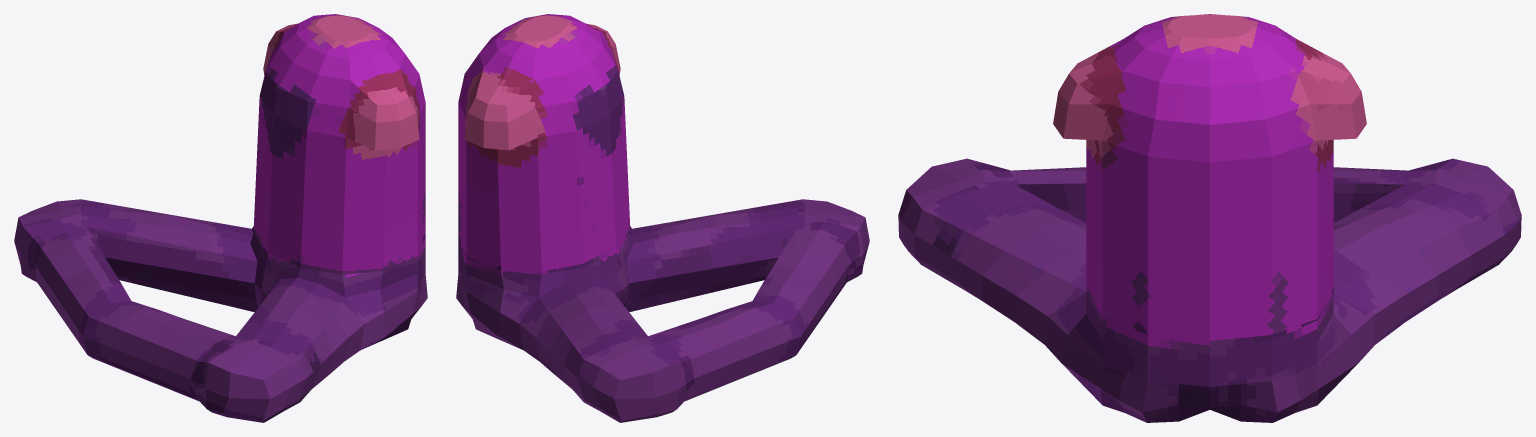
File: bertbody.glb
3 views of the same model, side by side, from view 1: azimuth 30°, elevation 25°; view 2: azimuth 150°, elevation 25°; view 3: azimuth 270°, elevation 25° (orthographic). The views are drawn at different scales.
Parts seen in each view (by area): view 1: Cylinder; view 2: Cylinder; view 3: Cylinder.
Boxes of the visible parts, <box> form: Cylinder: <box>14,14,427,422</box>; Cylinder: <box>456,14,869,422</box>; Cylinder: <box>898,14,1521,422</box>.
Size of the model in its own units: 4.02 by 3.39 by 5.03.
Materials: 1 (1 with a texture image).
